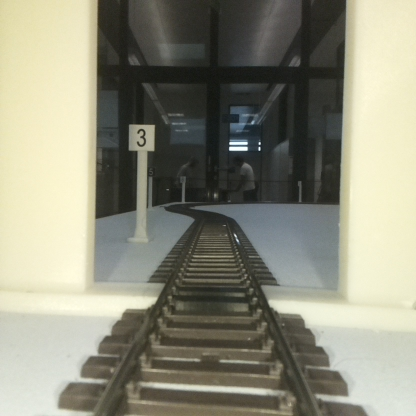white-info-3: (129, 125, 154, 241)
